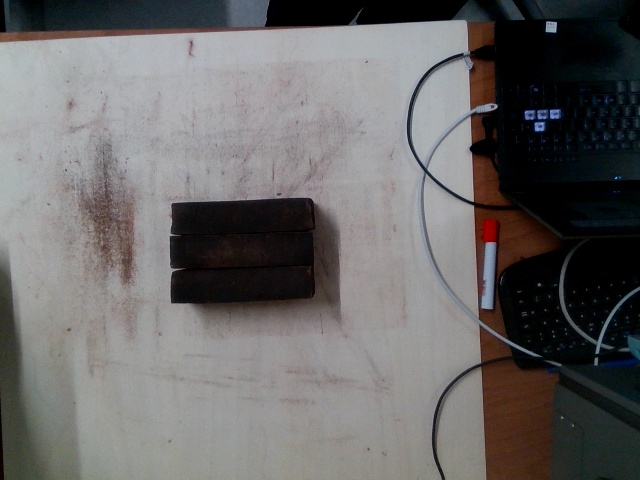brick-side: (173, 199, 309, 235), (172, 235, 308, 271), (173, 268, 309, 304)
